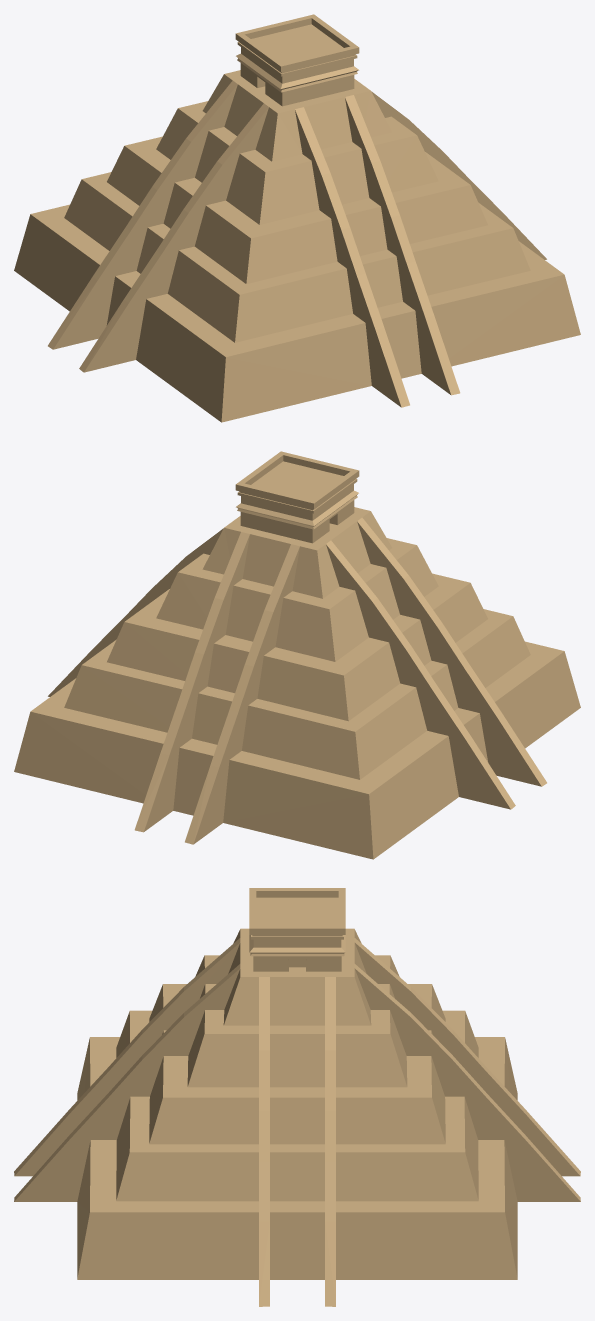
File: maya_temple.glb
3 renders of one model, top to bottom at view 1: azimuth 30°, elevation 25°; view 2: azimuth 150°, elevation 25°; view 3: azimuth 270°, elevation 25°, orthographic. The views are drawn at different scales.
Parts seen in each view (by area): view 1: Mayan Temple; view 2: Mayan Temple; view 3: Mayan Temple.
Part boxes in pixels (x1,y1,x2,y2): Mayan Temple: (14,14,580,422); Mayan Temple: (14,451,580,859); Mayan Temple: (14,888,580,1306).
Bounding box in the file's own units: 16.52 × 8.93 × 16.48.
